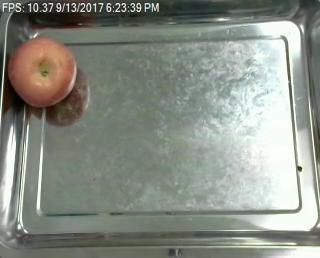apple: (7, 38, 77, 107)
